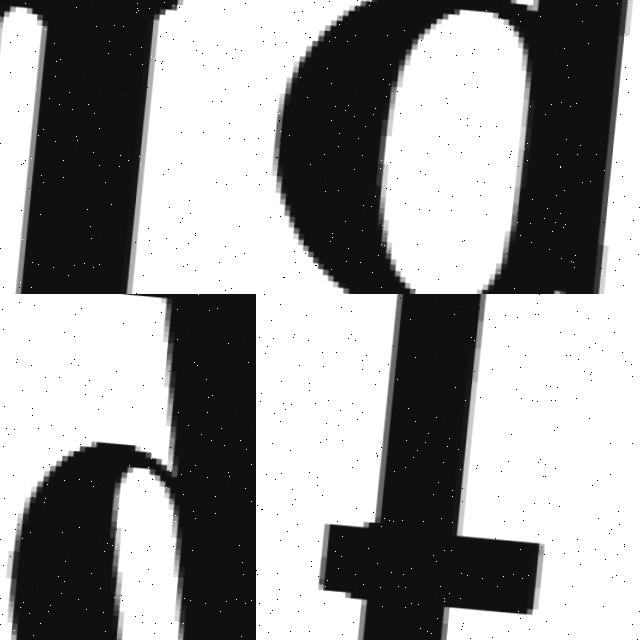D: (0, 0, 187, 294)
F: (296, 294, 577, 640)
Q: (256, 0, 640, 294), (0, 294, 256, 640)
